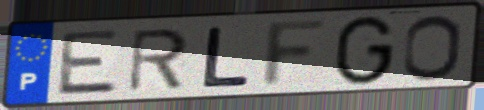E: (55, 27, 123, 98)
F: (257, 16, 334, 91)
G: (331, 14, 398, 88)
L: (199, 24, 253, 89)
O: (400, 13, 463, 83)
R: (126, 25, 191, 94)
